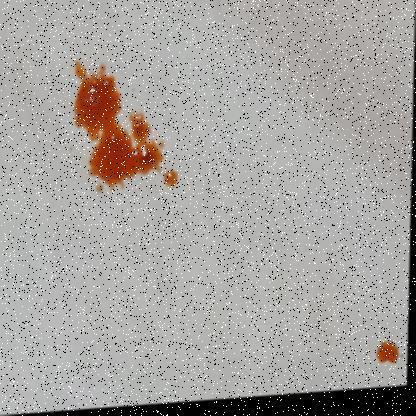kimchi: (70, 63, 182, 200), (379, 334, 402, 369)
